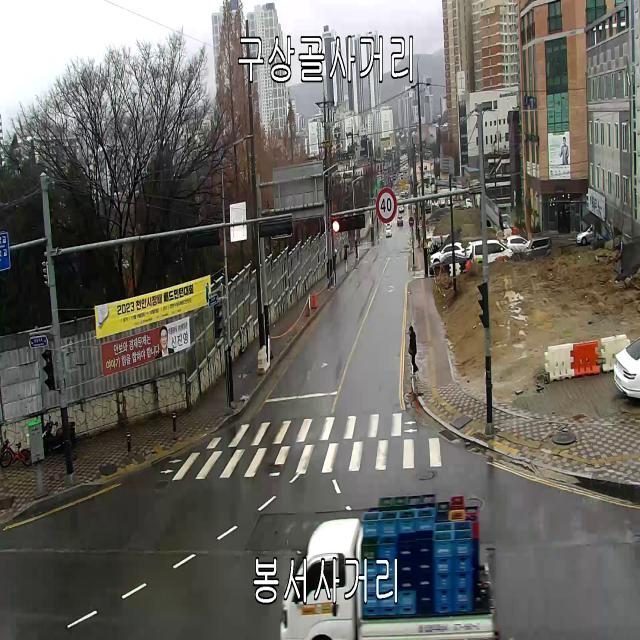Car: (613, 334, 640, 398), (471, 241, 513, 264), (430, 242, 465, 265), (429, 255, 467, 276), (524, 237, 552, 258), (576, 224, 593, 246), (460, 198, 472, 209), (466, 242, 472, 258), (397, 216, 403, 226)
Truck: (281, 494, 494, 640)
